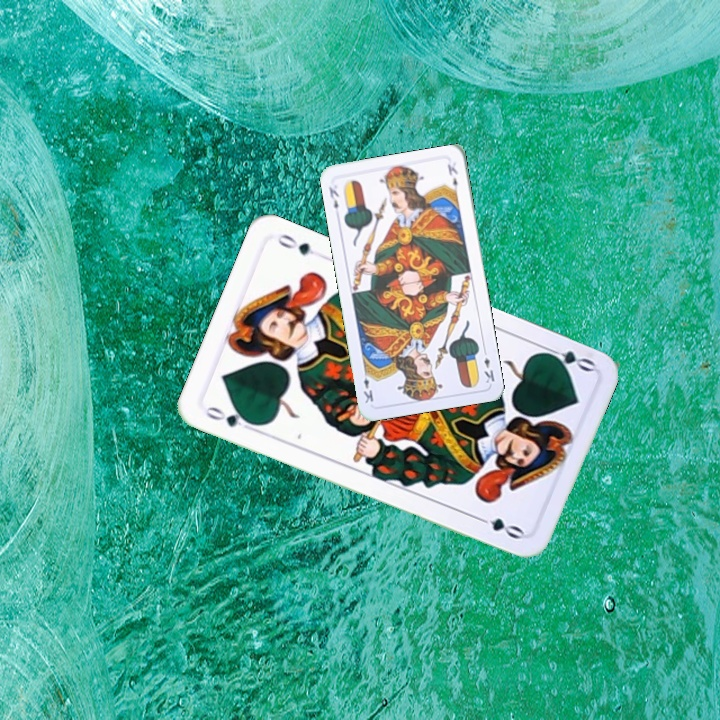EK: (479, 345, 497, 386), (325, 183, 341, 211)
GO: (537, 342, 597, 375), (201, 402, 259, 434)
